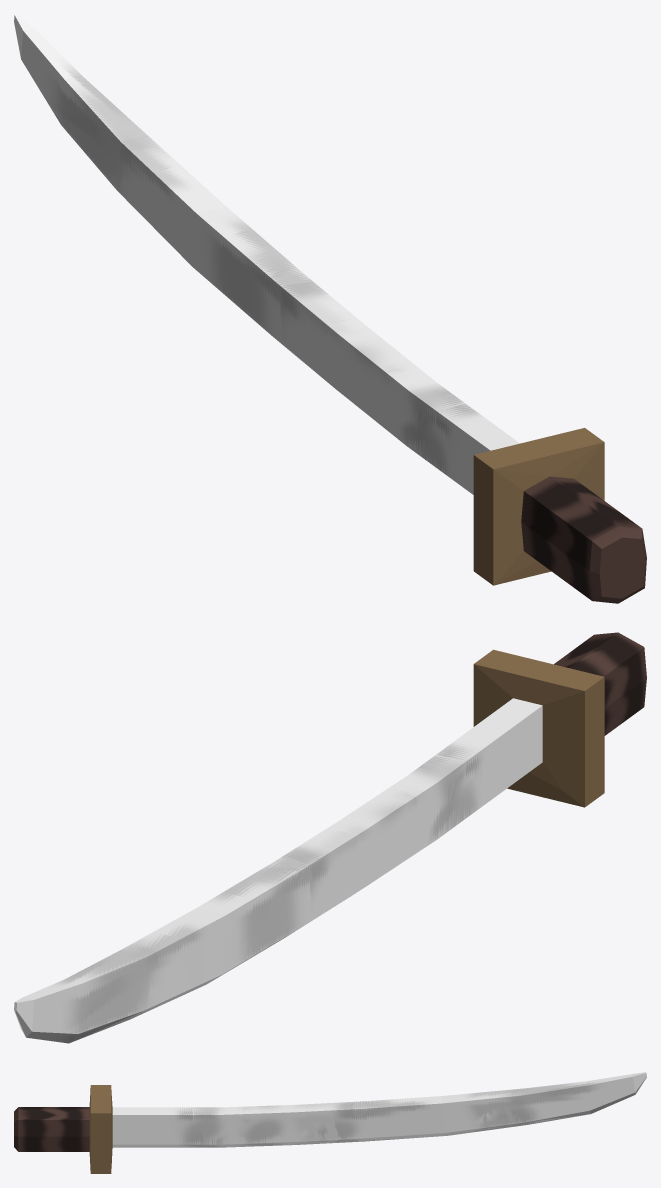
Rendered from sword.dae.
The picture shows the model from 3 angles, top to bottom: view 1: azimuth 30°, elevation 25°; view 2: azimuth 150°, elevation 25°; view 3: azimuth 270°, elevation 25°; orthographic projection. The views are drawn at different scales.
Parts seen in each view (by area): view 1: Cube; view 2: Cube; view 3: Cube.
Boxes of the visible parts, box(x1,y1,x2,y2) form: Cube: box(14, 14, 646, 603); Cube: box(14, 632, 646, 1043); Cube: box(14, 1072, 646, 1173).
Bounding box in the file's own units: 0.6801 × 6.43 × 0.978.
1 material, 1 textured.
